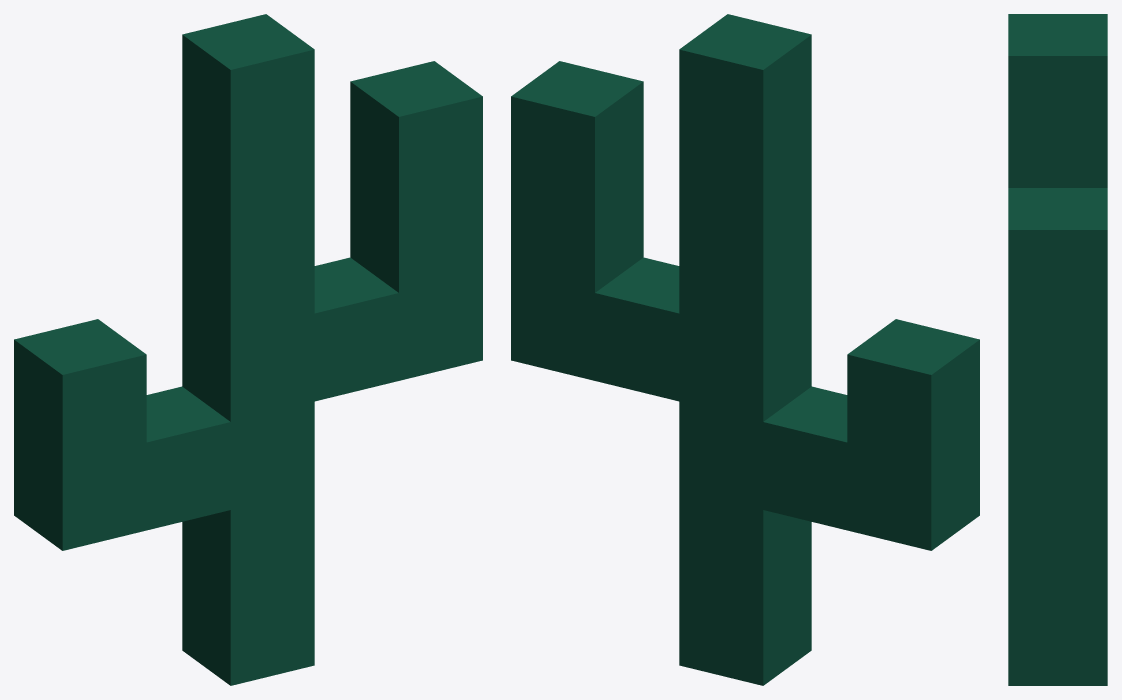
Rendered from cactus1new.obj.
The picture shows the model from 3 angles, left to right: view 1: azimuth 30°, elevation 25°; view 2: azimuth 150°, elevation 25°; view 3: azimuth 270°, elevation 25°; orthographic projection. The views are drawn at different scales.
Bounding box in the file's own units: 0.5 × 0.7 × 0.1.
Materials: 1 (1 with a texture image).
